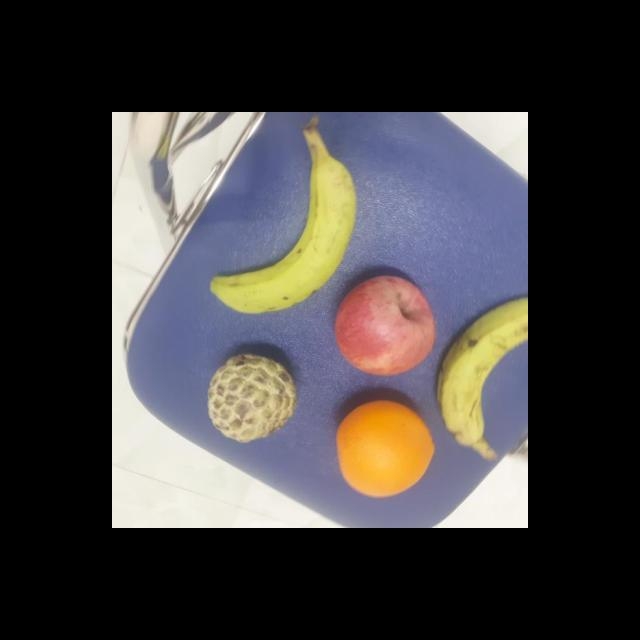Sakya fruit: (206, 352, 302, 448)
apple: (334, 274, 438, 378)
banana: (208, 156, 362, 318), (438, 293, 528, 446)
orange: (334, 398, 434, 502)
